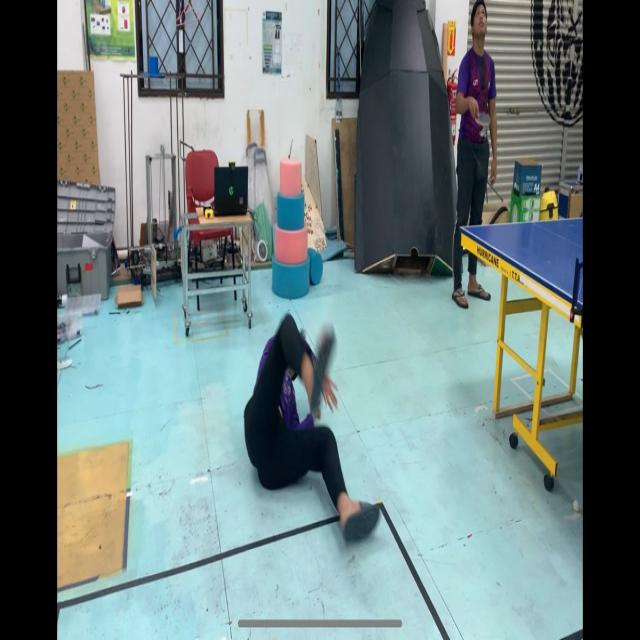Fall-Detected: (235, 287, 387, 547)
